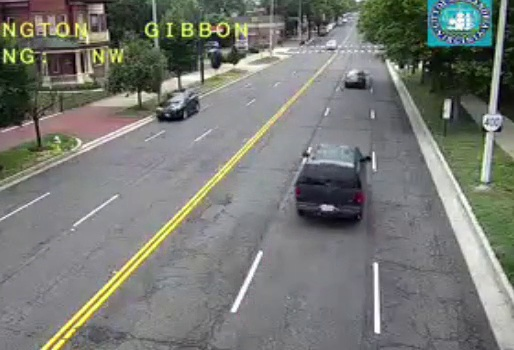car: (295, 144, 365, 220), (345, 70, 365, 88)
